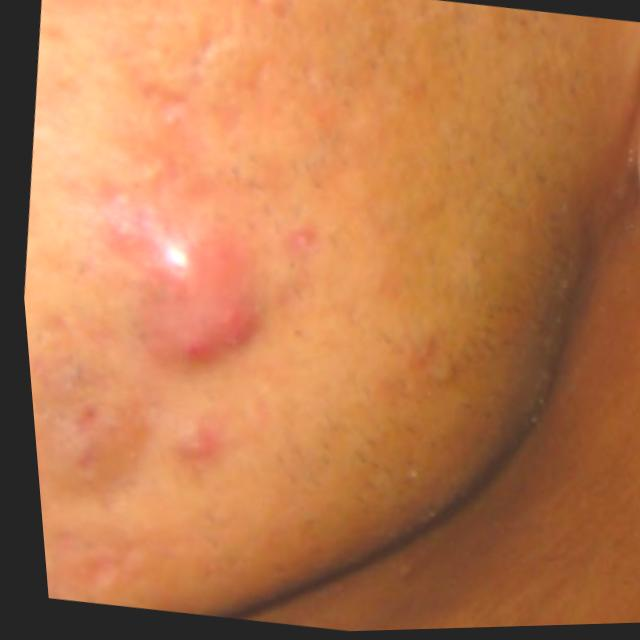nodule: (114, 161, 273, 373)
